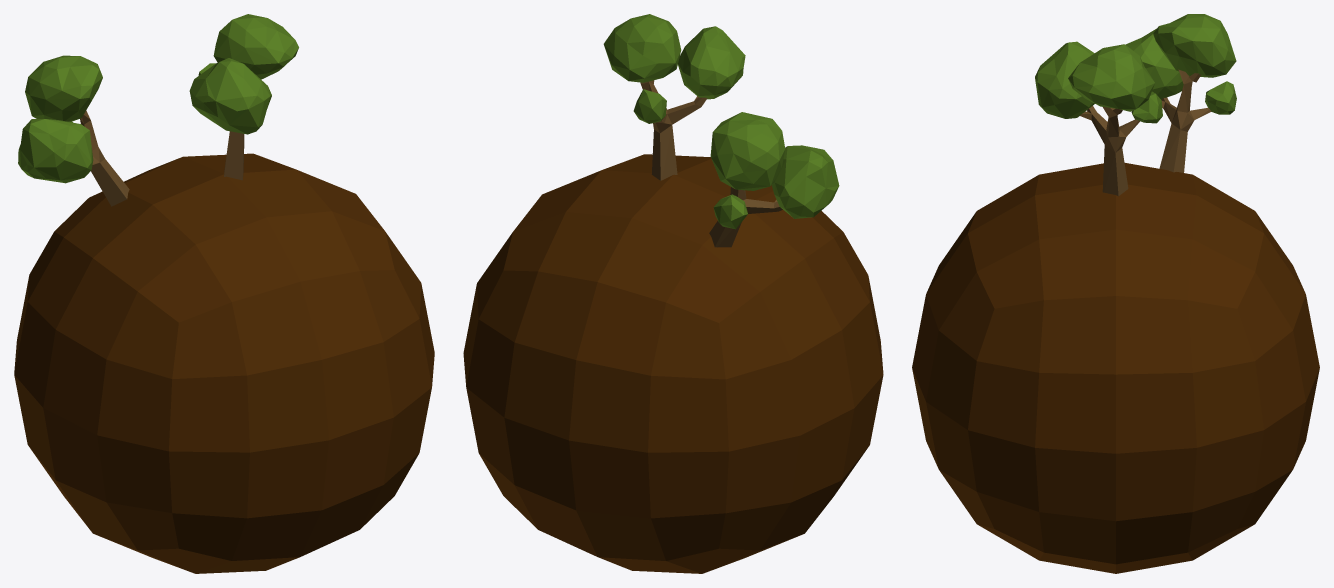
Rendered from test-planet-1.glb.
The picture shows the model from 3 angles, left to right: view 1: azimuth 30°, elevation 25°; view 2: azimuth 150°, elevation 25°; view 3: azimuth 270°, elevation 25°; orthographic projection. The views are drawn at different scales.
Parts seen in each view (by area): view 1: Cube, Tree1_3.001, Tree1_3; view 2: Cube, Tree1_3, Tree1_3.001; view 3: Cube, Tree1_3, Tree1_3.001.
Boxes of the visible parts, box(x1,y1,x2,y2) form: Cube: box(14, 153, 434, 573); Tree1_3.001: box(18, 55, 129, 206); Tree1_3: box(189, 14, 298, 180); Cube: box(463, 154, 883, 573); Tree1_3: box(603, 14, 745, 180); Tree1_3.001: box(709, 112, 839, 247); Cube: box(912, 163, 1319, 573); Tree1_3: box(1035, 41, 1162, 196); Tree1_3.001: box(1125, 14, 1236, 172).
Size of the model in its own units: 4.87 by 6.79 by 4.87.
